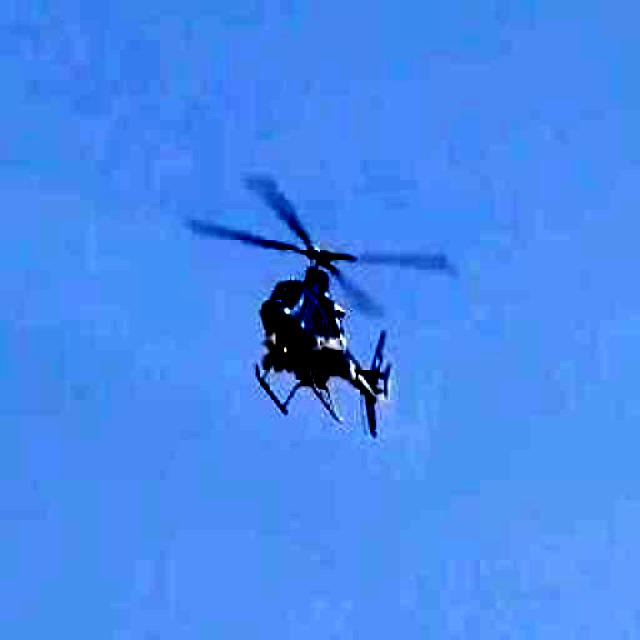drone: (142, 168, 484, 458)
